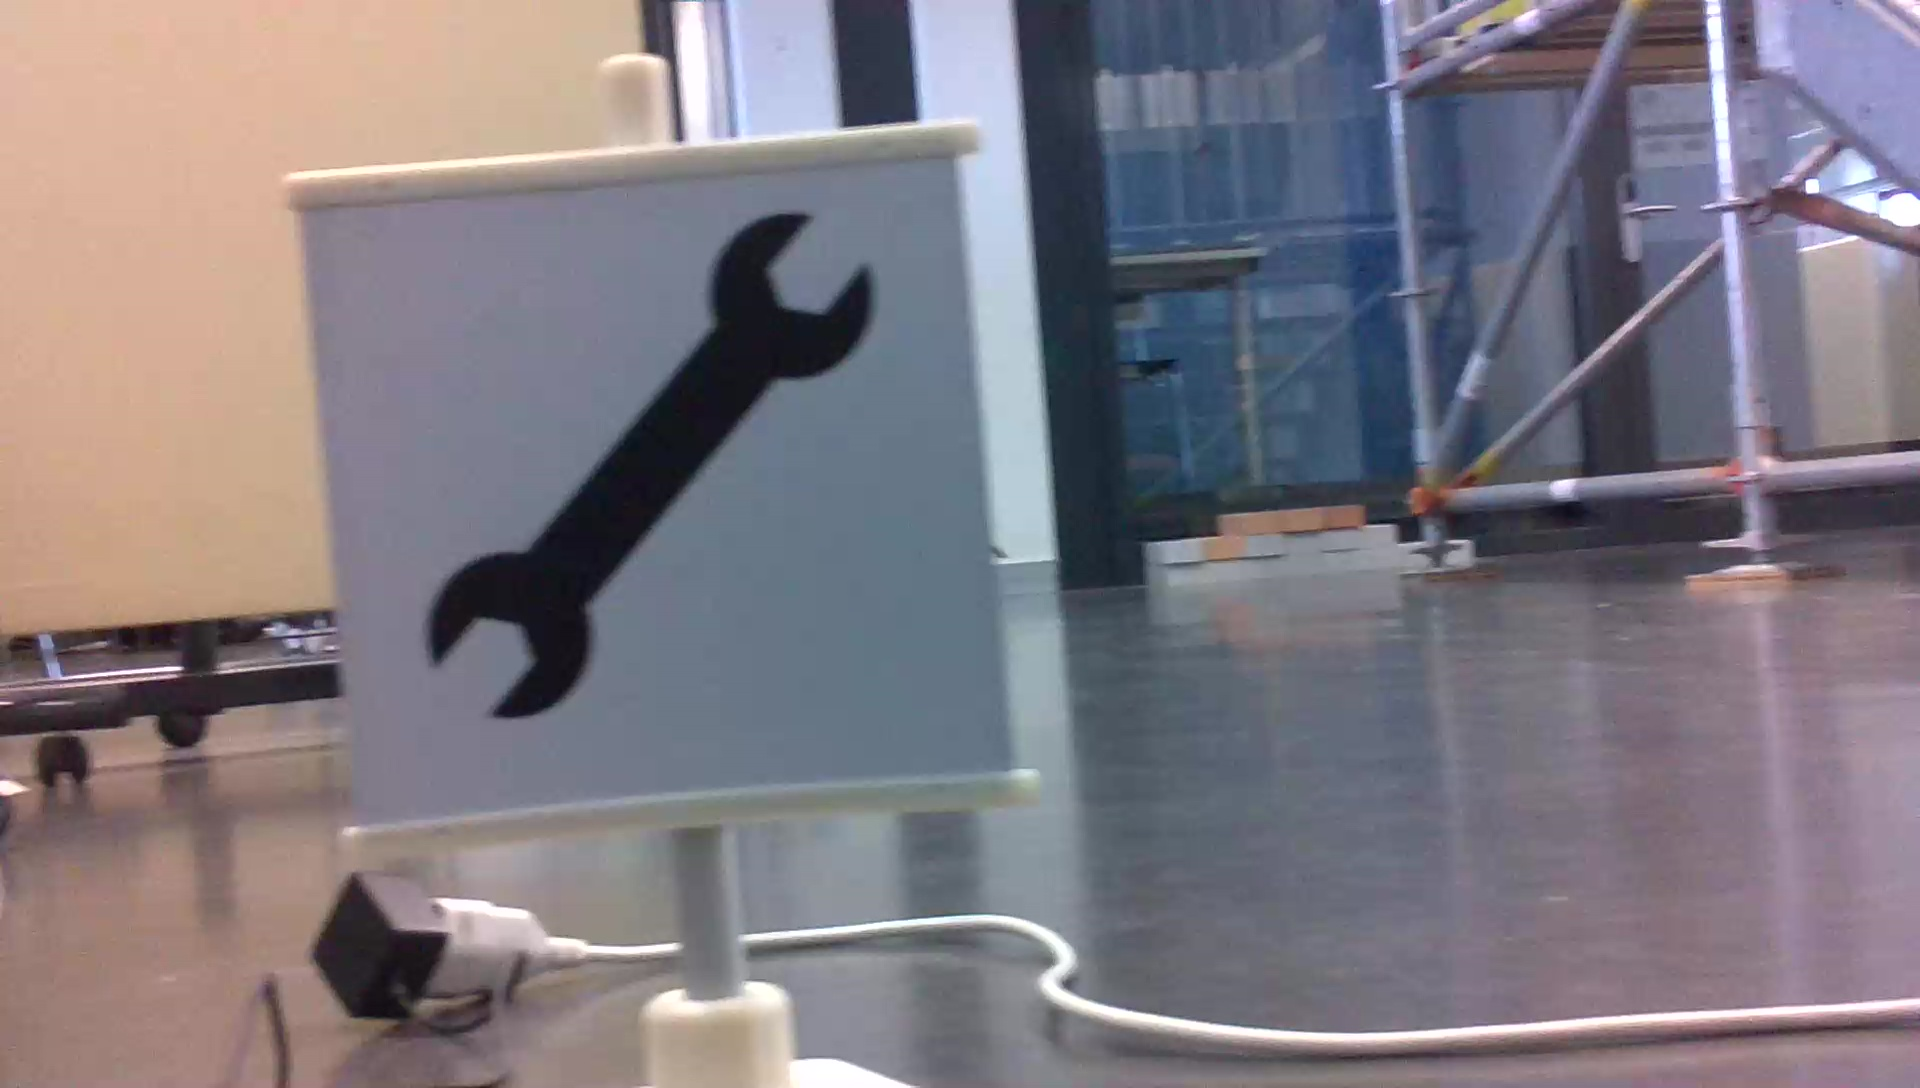wrench: (418, 207, 887, 735)
